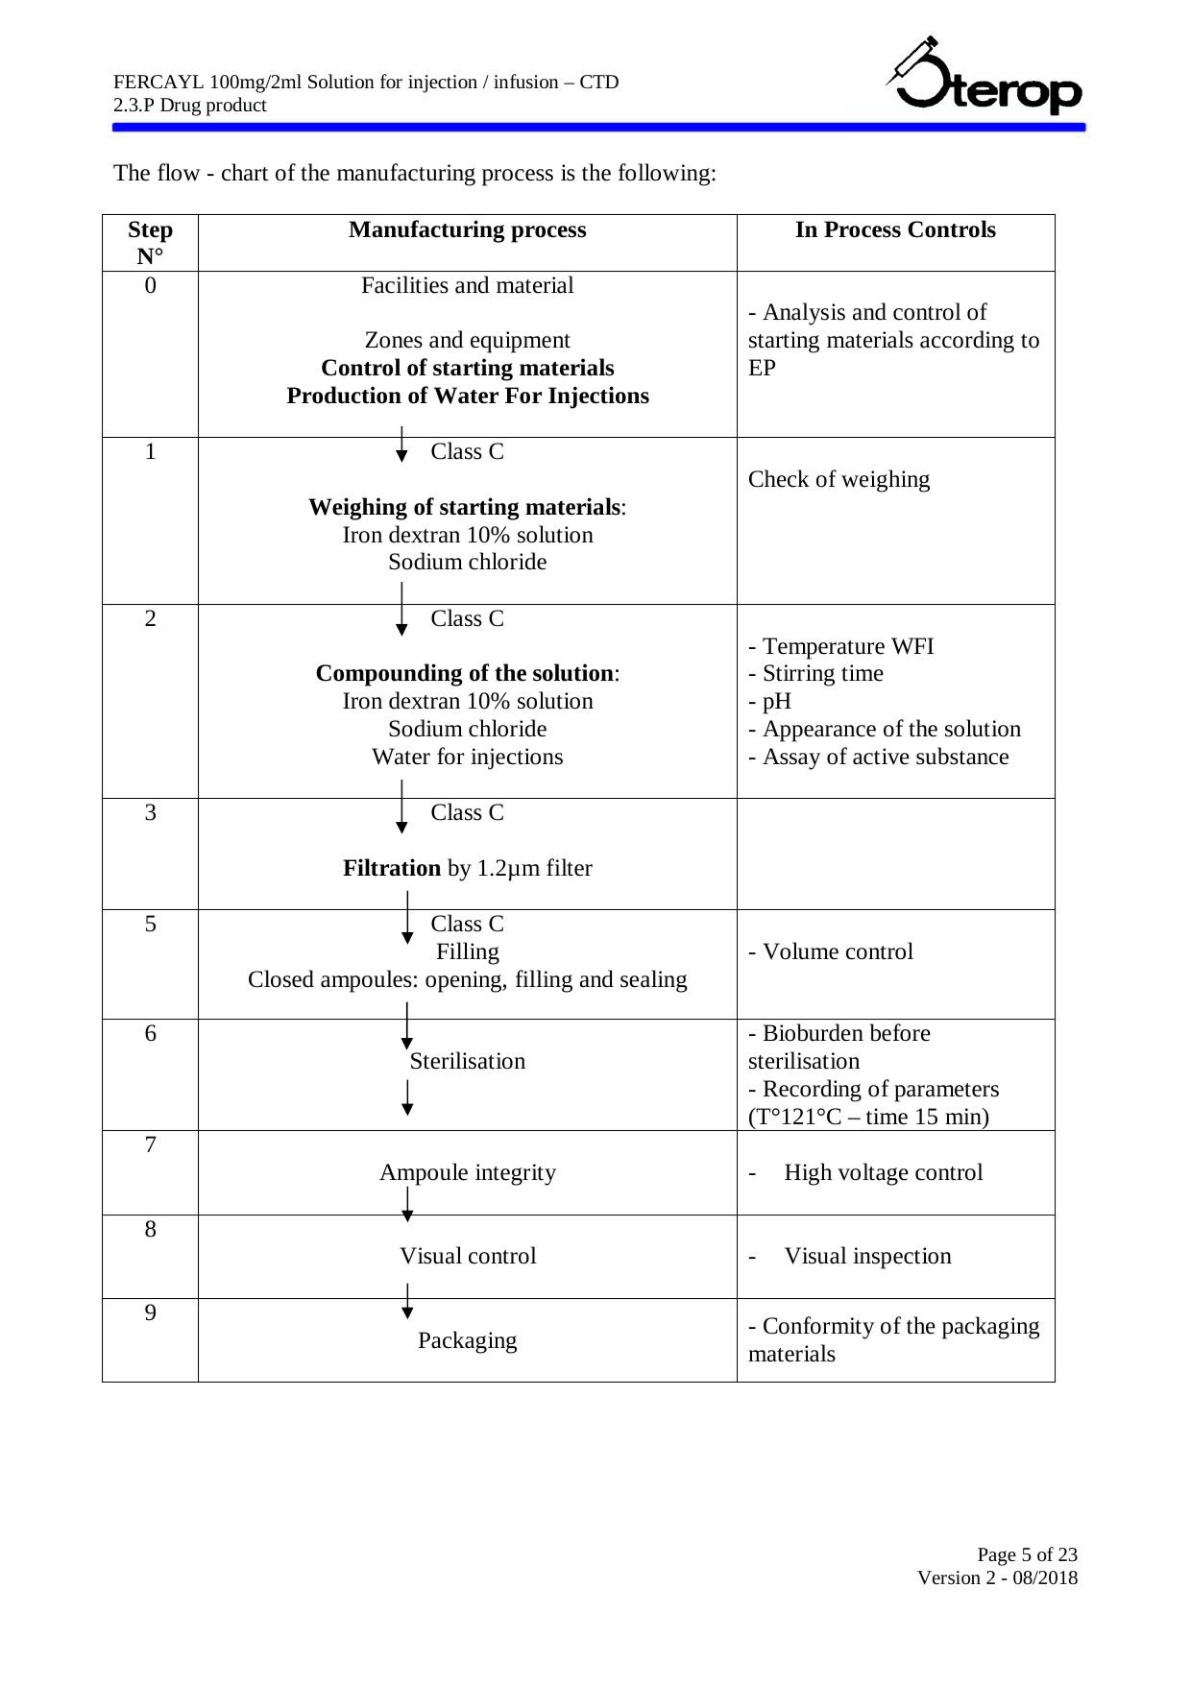full_lined: (101, 214, 1056, 1383)
